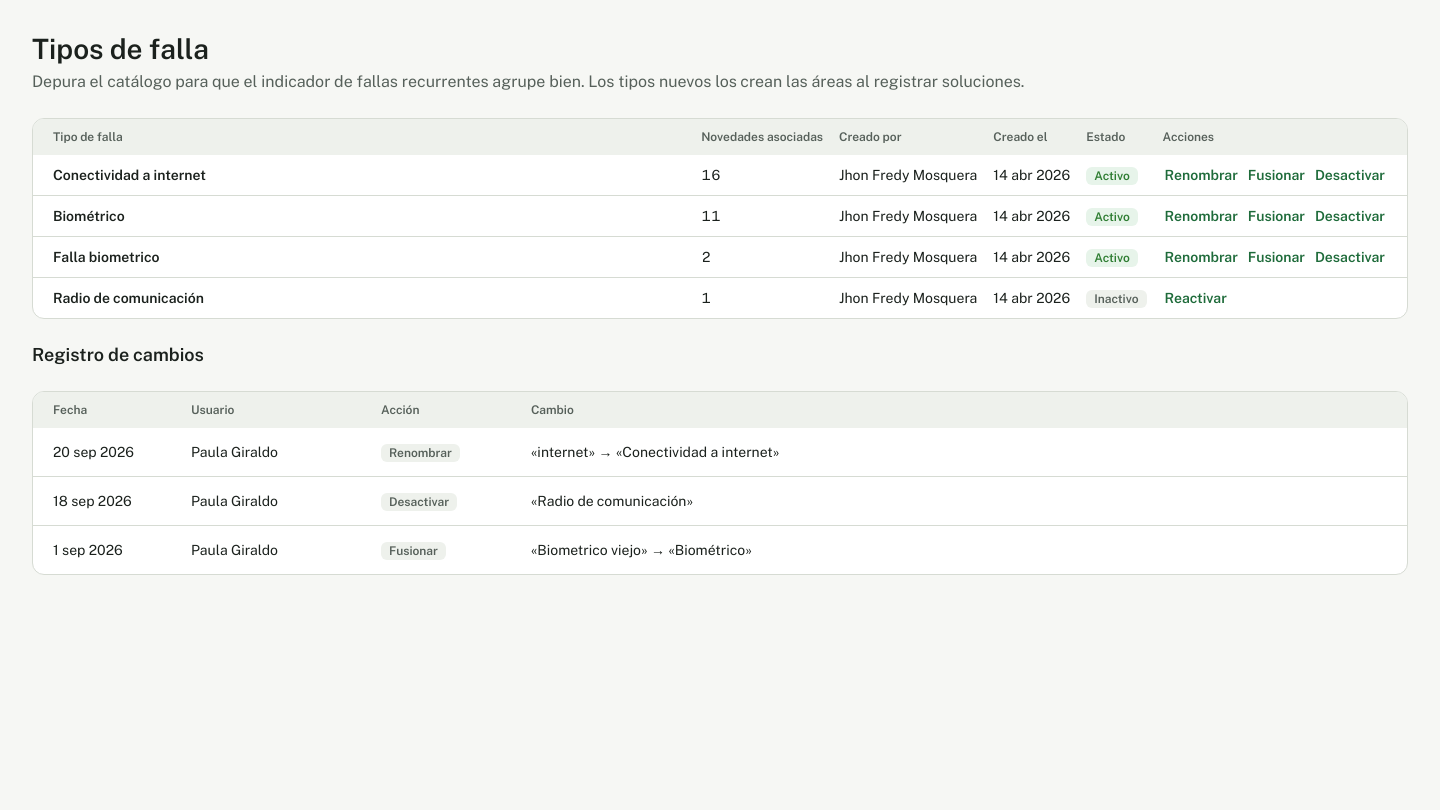
Scenario: Pantalla 31 · Tipos de falla (RF-32 / CU-32) › RF-32 / cambio 39: si no se puede reactivar, lo dice
Click the button with aria-label "Reactivar Radio de comunicación" at x=1196, y=298, box [1163, 288, 1229, 308]
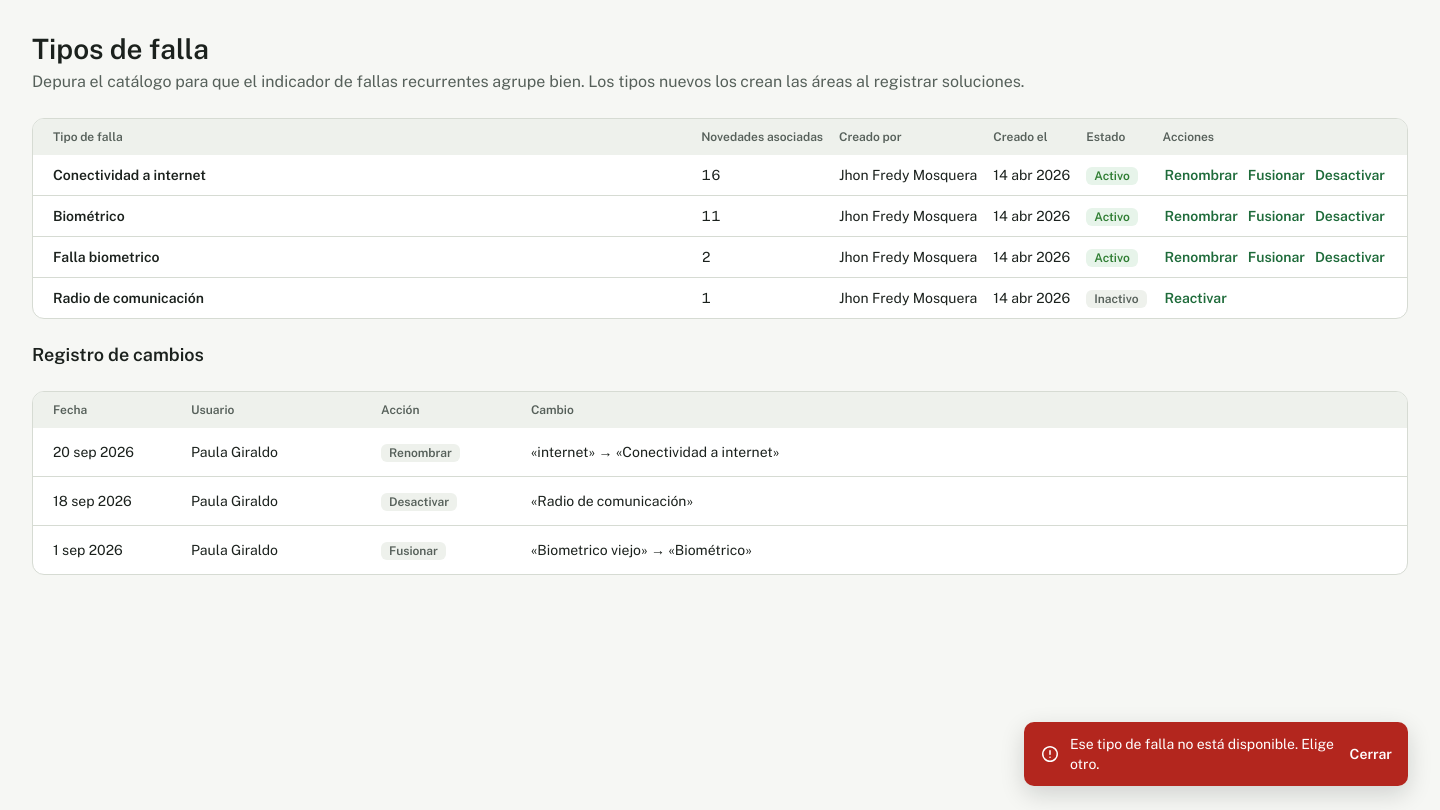
Expected: the text "Ese tipo de falla no está disponible. Elige otro." is shown, [1070, 734, 1340, 774]
